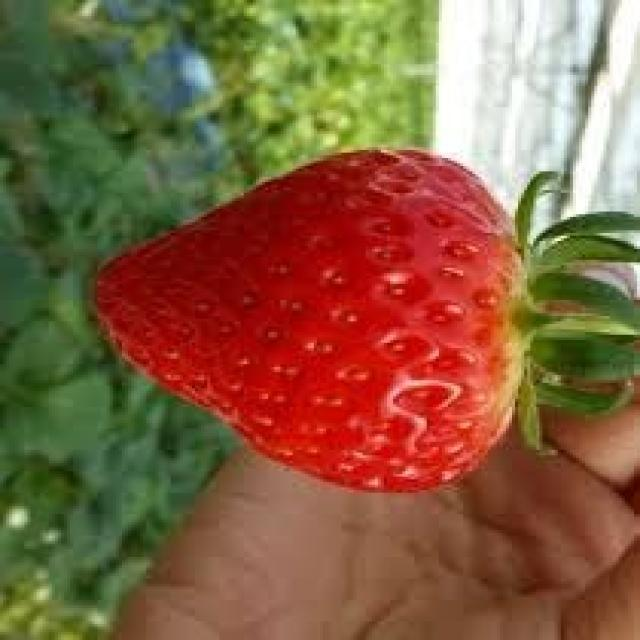Strawberry: (94, 144, 532, 494)
